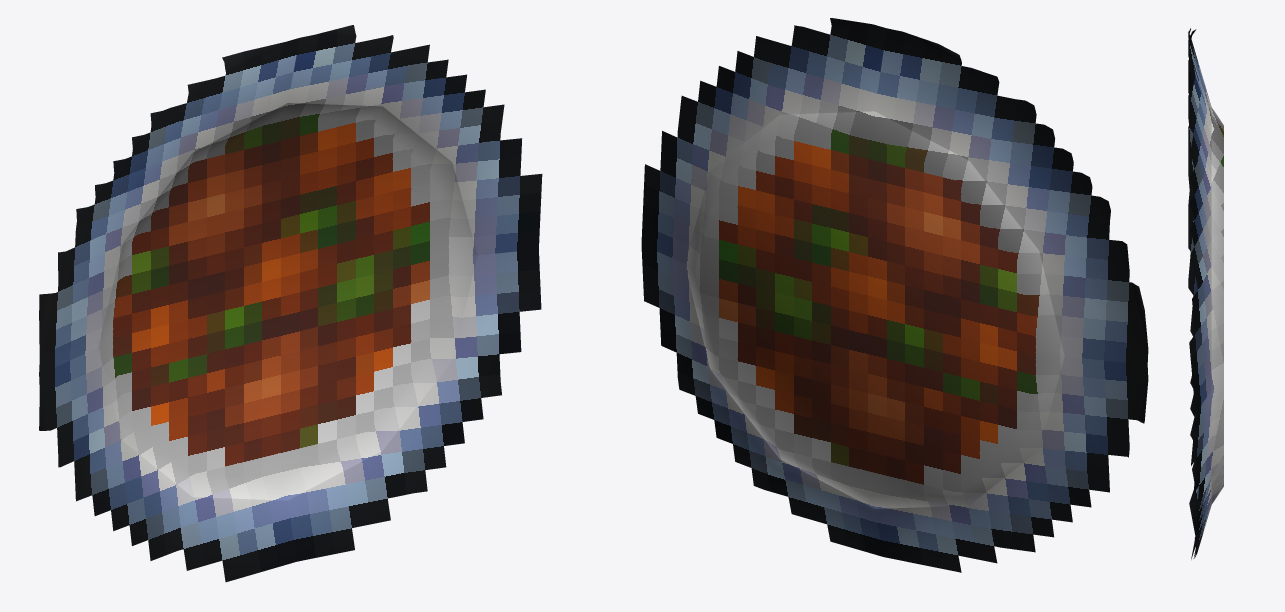
File: HeldPlate.fbx
3 renders of one model, left to right at view 1: azimuth 30°, elevation 25°; view 2: azimuth 150°, elevation 25°; view 3: azimuth 270°, elevation 25°, orthographic. The views are drawn at different scales.
Visible parts, largest first — view 1: Plate; view 2: Plate; view 3: Plate.
Boxes of the visible parts, x1=… form: Plate: x1=39, y1=25, x2=542, y2=582; Plate: x1=641, y1=18, x2=1148, y2=572; Plate: x1=1188, y1=28, x2=1223, y2=559.
Bounding box in the file's own units: 0.578 × 0.578 × 0.0809.
